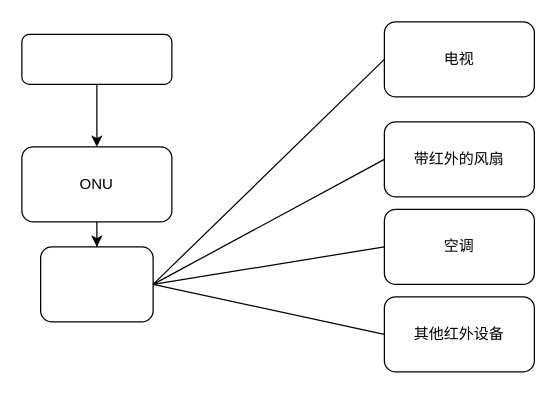
The diagram is 556 pixels wide and 394 high, and some of its shapes have lost their labels. Each missing label, with the centre of its shape:
红外模块: point (96, 284)
语音输入模块: point (96, 58)
